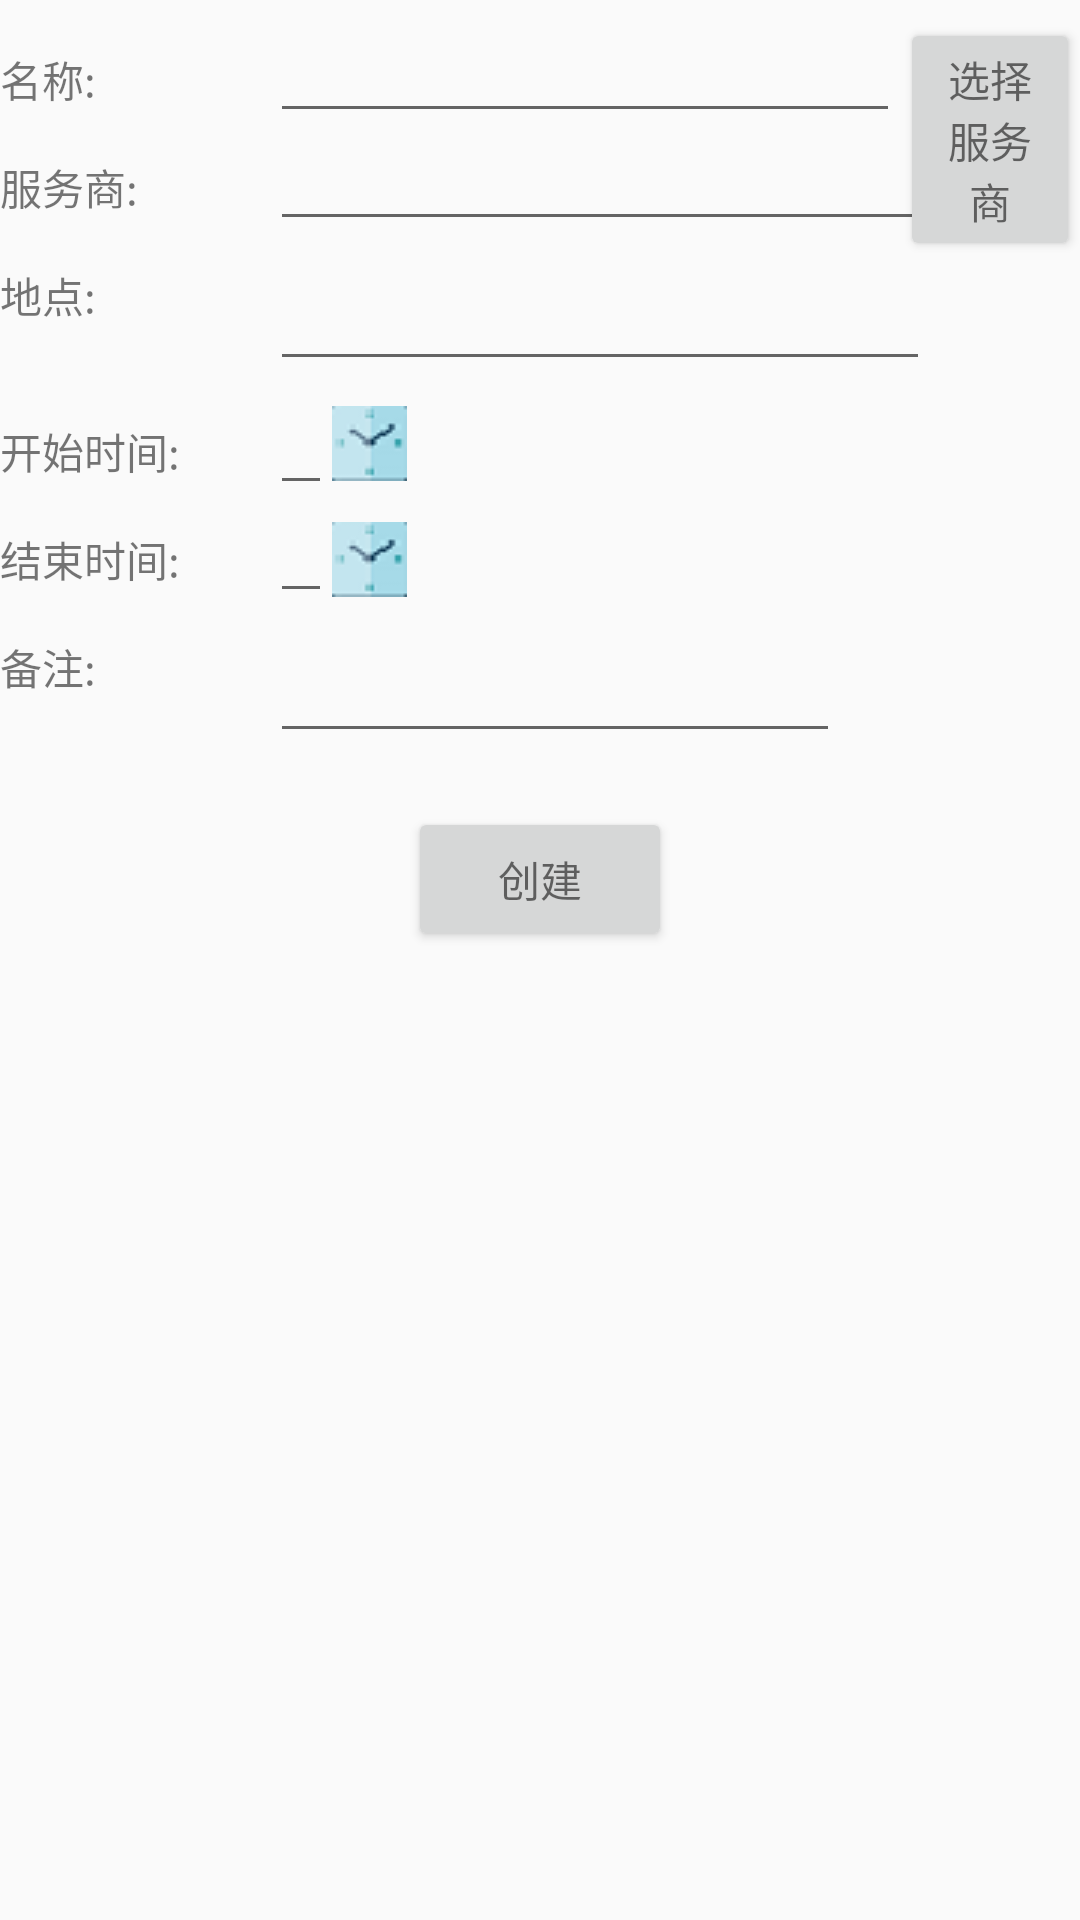

Icons on this 1080×1920 Android screen, each with its box as (x1, y1, x2, y2):
time picker: (332, 406, 407, 481), (332, 522, 407, 597)
